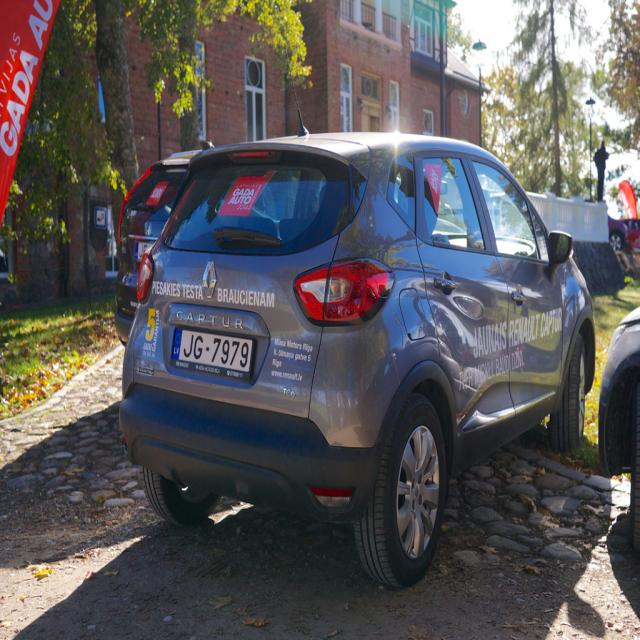car: (118, 106, 598, 592)
